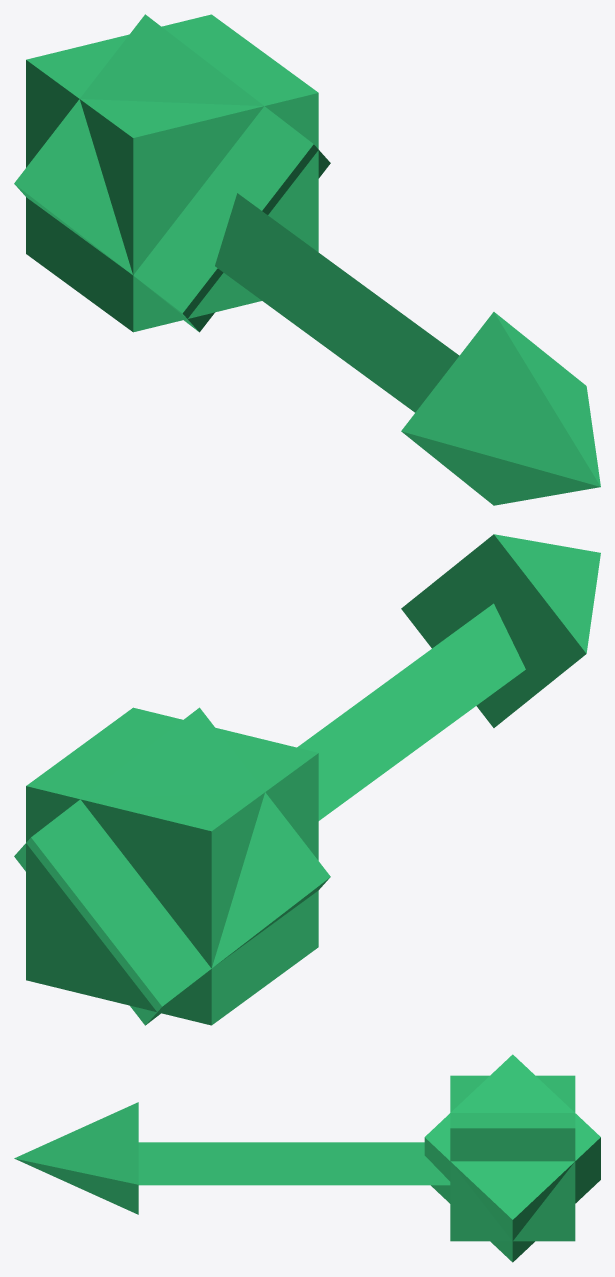
The model's file is DEBUG_RAIL_DIR.glb.
3 views of the same model, one above another, from view 1: azimuth 30°, elevation 25°; view 2: azimuth 150°, elevation 25°; view 3: azimuth 270°, elevation 25° (orthographic). The views are drawn at different scales.
Visible parts, largest first — view 1: Triangle, obj1, obj3; view 2: obj1, Triangle, obj3; view 3: Triangle, obj1, obj3.
Part boxes in pixels (bbox=[...]): Triangle: bbox=[215, 193, 600, 505]; obj1: bbox=[26, 14, 318, 332]; obj3: bbox=[14, 14, 330, 332]; obj1: bbox=[26, 707, 318, 1025]; Triangle: bbox=[297, 534, 600, 820]; obj3: bbox=[14, 707, 330, 1025]; Triangle: bbox=[14, 1102, 450, 1214]; obj1: bbox=[450, 1075, 575, 1241]; obj3: bbox=[424, 1054, 600, 1262].
Bounding box in the file's own units: 1.71 × 1.71 × 4.71.
3 materials, 3 textured.
